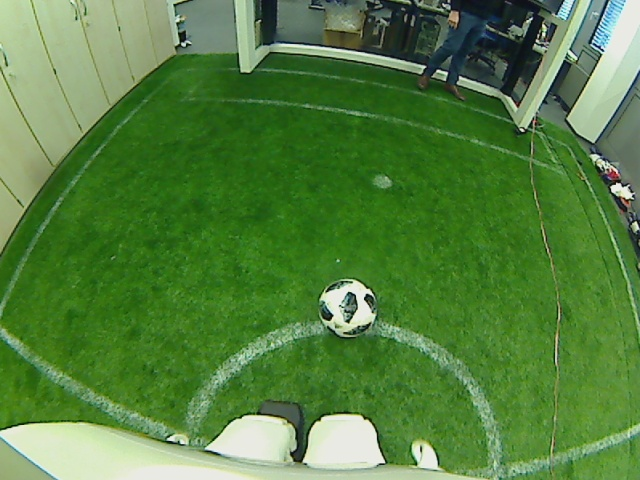ball: (315, 276, 379, 336)
